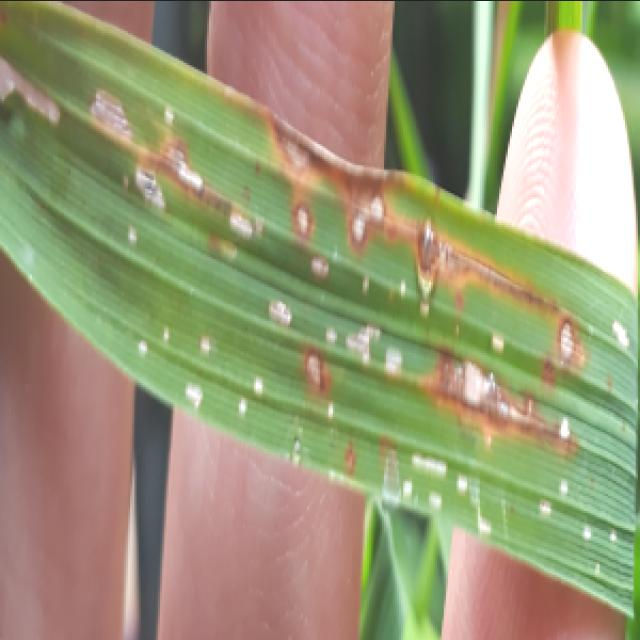Brown_Spot: (65, 109, 249, 301), (415, 348, 572, 474)
